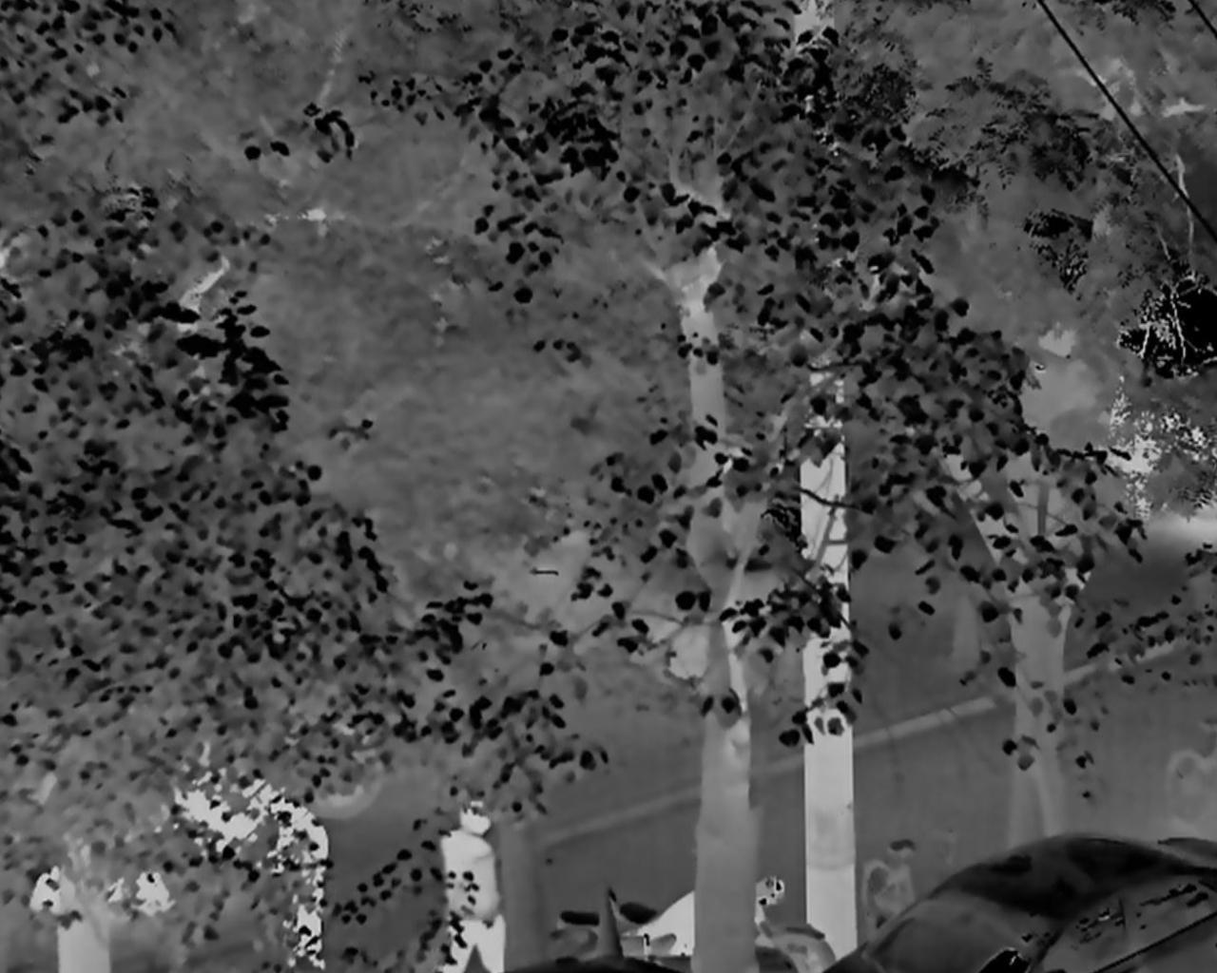person: (267, 796, 331, 967), (445, 805, 504, 971)
